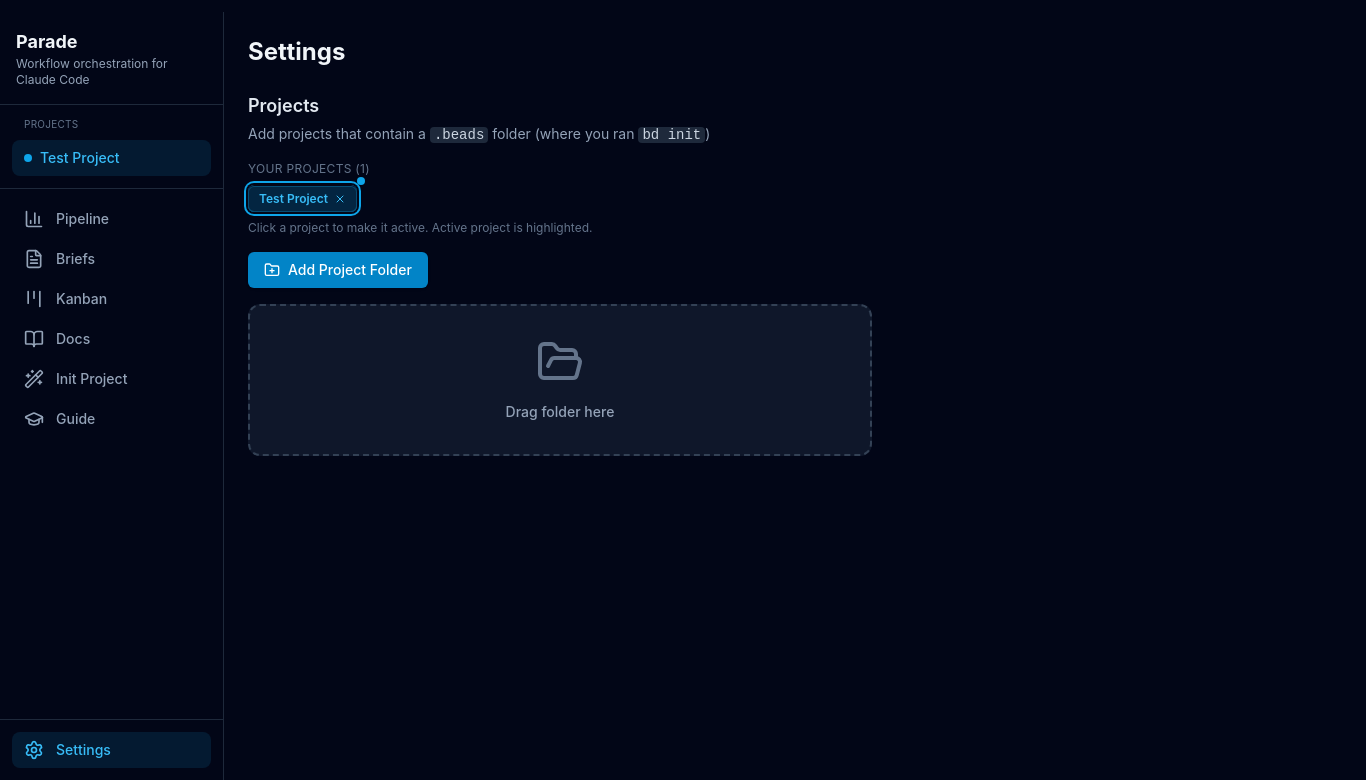
Test: Navigation Behavior › Navigation between new and existing routes › should navigate from /settings to /init-project
Note: Click Init Project link
What coordinates should you click on to do the following:
click the link "Init Project"
I would click on:
 (76, 379)
Its box is 24,369 -> 128,389.
(page scrolled)
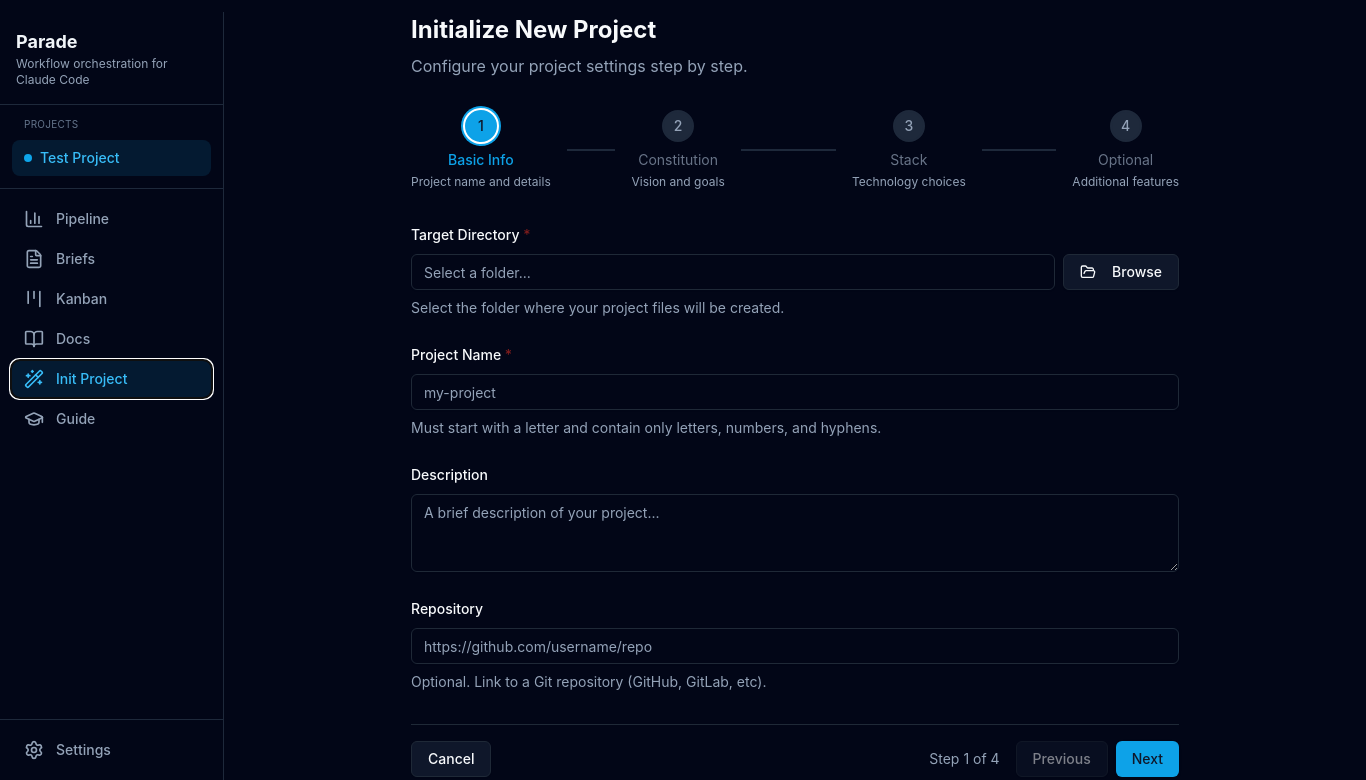
Expected: the element with test id "project-wizard" is shown, 411,14 -> 1179,777
